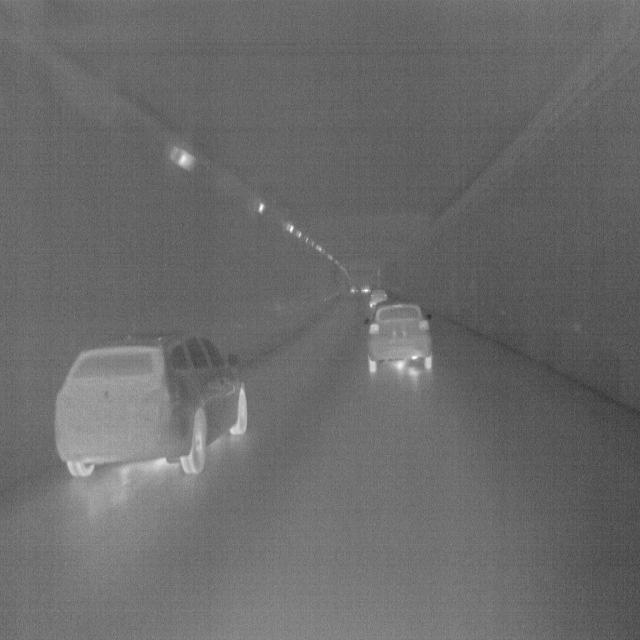Vehicle: (51, 335, 251, 481), (363, 299, 435, 379)
